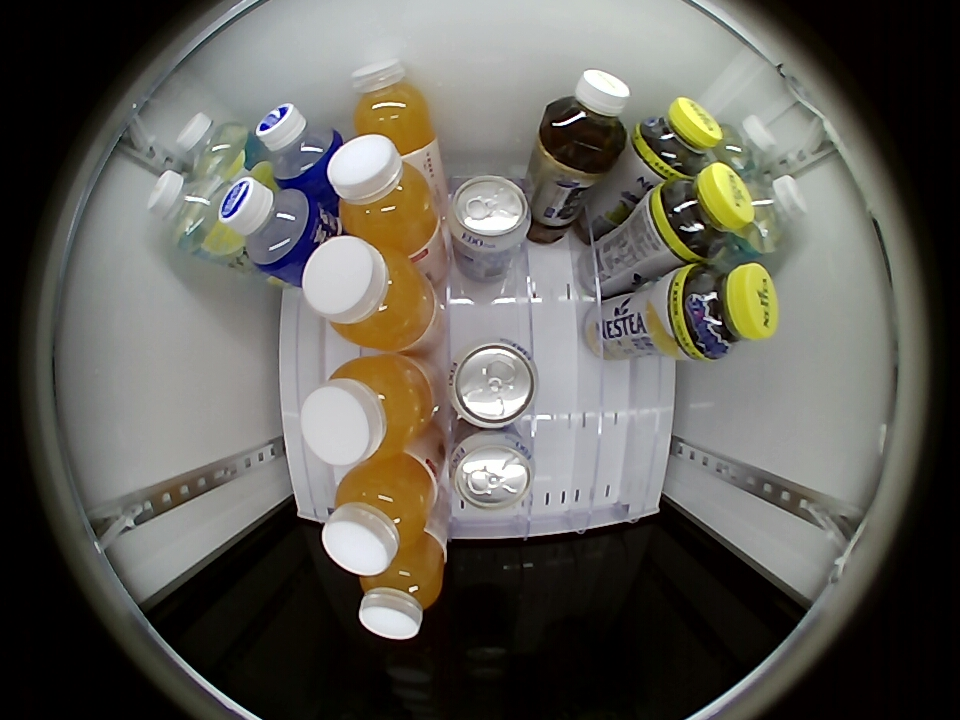baokuangli: (219, 176, 328, 280), (255, 103, 342, 192)
chacui: (669, 261, 778, 361), (650, 164, 754, 262), (633, 97, 720, 180)
qinningshui: (147, 170, 229, 255), (735, 173, 807, 254), (176, 113, 249, 179), (711, 114, 777, 178)
rusuanjunqishui: (449, 339, 538, 428), (449, 431, 535, 513), (448, 174, 531, 255)
weic: (303, 236, 437, 351), (301, 355, 435, 466), (322, 455, 439, 576), (327, 134, 440, 255), (357, 533, 447, 640), (349, 59, 436, 158)
wulongcha: (542, 69, 631, 163)
